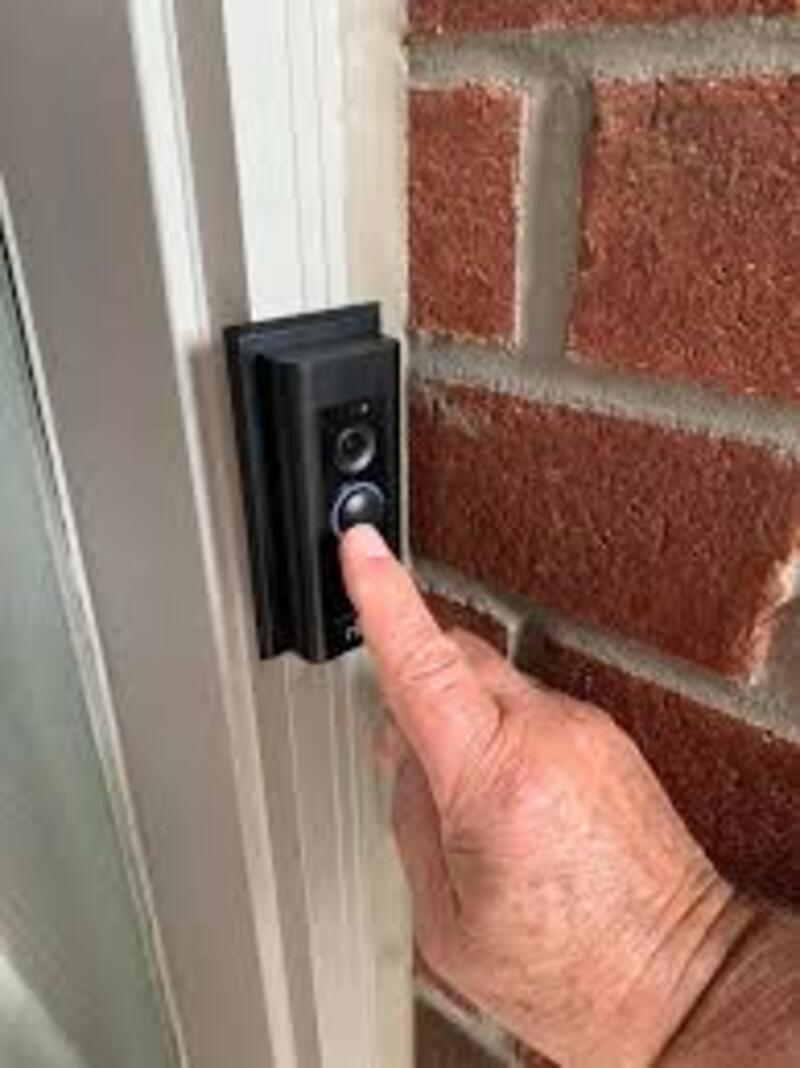doorbell: (223, 305, 425, 679)
